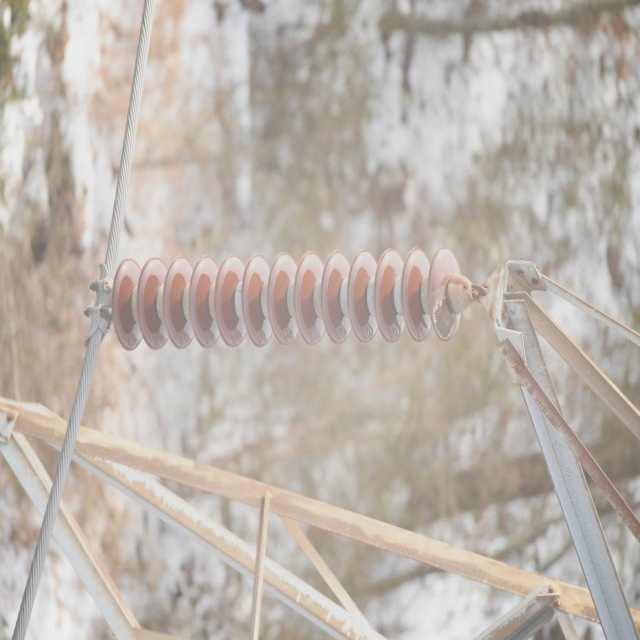insulator: (112, 242, 462, 352)
